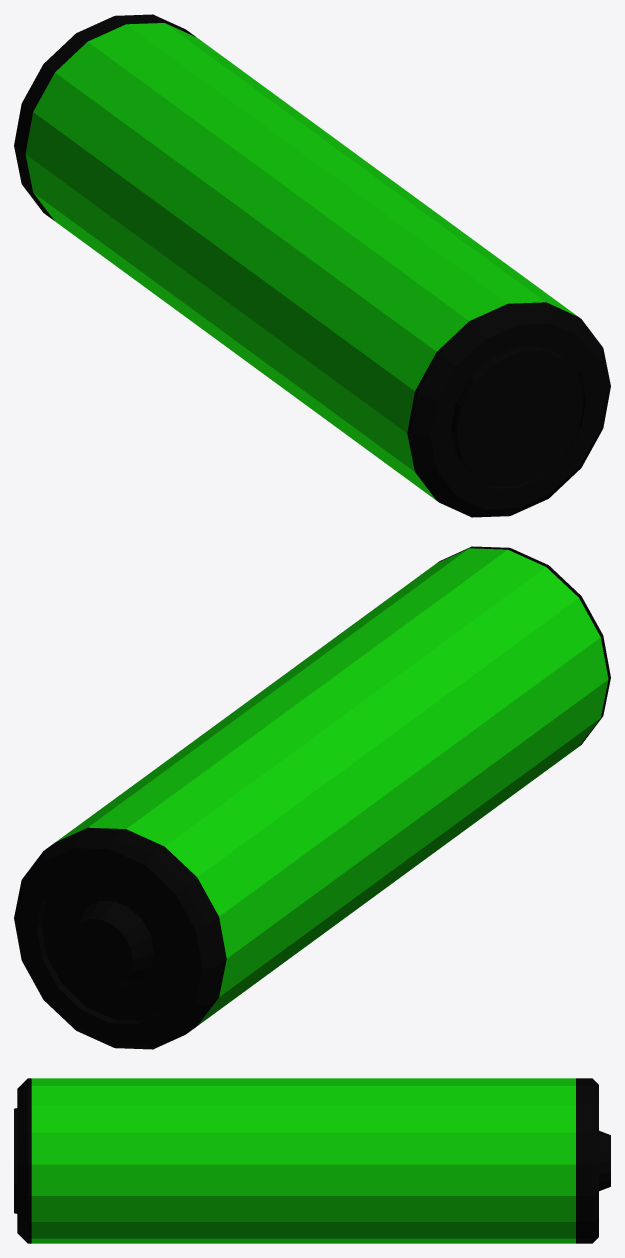
The model's file is Batterie.fbx.
3 renders of one model, top to bottom at view 1: azimuth 30°, elevation 25°; view 2: azimuth 150°, elevation 25°; view 3: azimuth 270°, elevation 25°, orthographic. The views are drawn at different scales.
Parts seen in each view (by area): view 1: Zylinder; view 2: Zylinder; view 3: Zylinder.
Boxes of the visible parts, x1,y1,x2,y2 form: Zylinder: [14, 14, 610, 517]; Zylinder: [14, 546, 610, 1049]; Zylinder: [14, 1078, 610, 1243].
Size of the model in its own units: 50 by 50 by 180.
